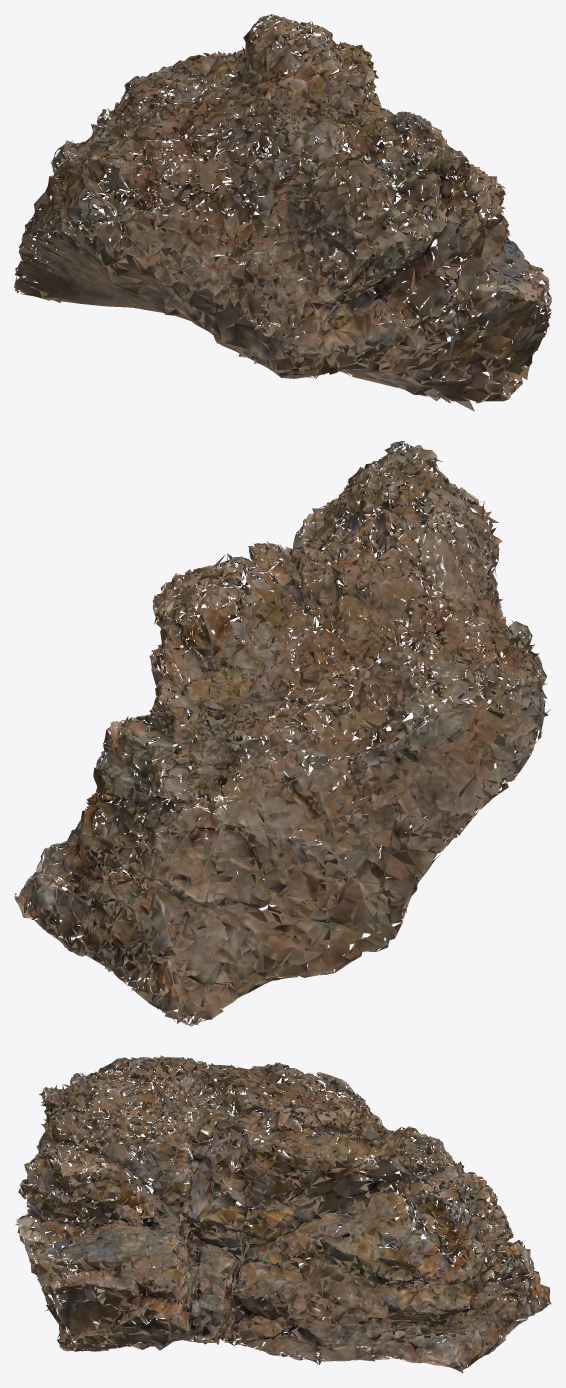
Rendered from cc0_boulder.glb.
3 renders of one model, top to bottom at view 1: azimuth 30°, elevation 25°; view 2: azimuth 150°, elevation 25°; view 3: azimuth 270°, elevation 25°, orthographic. The views are drawn at different scales.
Visible parts, largest first — view 1: boulder_01; view 2: boulder_01; view 3: boulder_01.
Part boxes in pixels (x1,y1,x2,y2): boulder_01: (14, 14, 551, 411); boulder_01: (14, 440, 550, 1026); boulder_01: (15, 1055, 551, 1373).
Size of the model in its own units: 1.28 by 1.01 by 1.84.
Materials: 1 (1 with a texture image).
